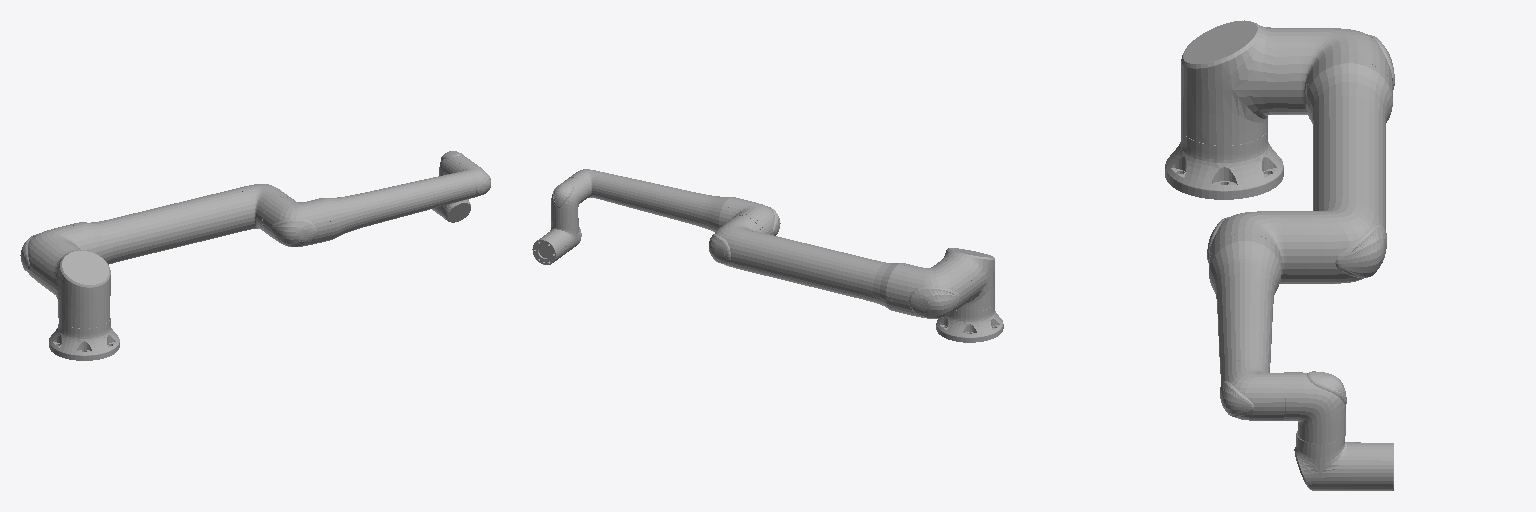
URDF robot description (ur20_robot):
<?xml version="1.0" encoding="utf-8" ?>
<!-- =================================================================================== -->
<!-- |    This document was autogenerated by xacro from [local-path]/catkin_workspace/src/universal_robot/ur_description/urdf/ur20.xacro | -->
<!-- |    EDITING THIS FILE BY HAND IS NOT RECOMMENDED                                 | -->
<!-- =================================================================================== -->
<robot name="ur20_robot">
    <!--
    Base UR robot series xacro macro.

    NOTE: this is NOT a URDF. It cannot directly be loaded by consumers
    expecting a flattened '.urdf' file. See the top-level '.xacro' for that
    (but note: that .xacro must still be processed by the xacro command).

    For use in '.launch' files: use one of the 'load_urX.launch' convenience
    launch files.

    This file models the base kinematic chain of a UR robot, which then gets
    parameterised by various configuration files to convert it into a UR3(e),
    UR5(e), UR10(e) or UR16e.

    NOTE: the default kinematic parameters (ie: link lengths, frame locations,
    offets, etc) do not correspond to any particular robot. They are defaults
    only. There WILL be non-zero offsets between the Forward Kinematics results
    in TF (ie: robot_state_publisher) and the values reported by the Teach
    Pendant.

    For accurate (and robot-specific) transforms, the 'kinematics_parameters_file'
    parameter MUST point to a .yaml file containing the appropriate values for
    the targetted robot.

    If using the UniversalRobots/Universal_Robots_ROS_Driver, follow the steps
    described in the readme of that repository to extract the kinematic
    calibration from the controller and generate the required .yaml file.

    Main author of the migration to yaml configs: [author].

    Contributors to previous versions (in no particular order):

     - [author]
     - [author]
     - [author]
     - [author]
     - [author]
     - [author]
     - [author]
     - [author]
     - [author]
     - [author]
     - [author]
     - [author]
     - [author]
     - [author]
     - [author]
     - [author]
     - [author]
    
    Refactor by WHI for connecting to other link
     - [author]
  -->
    <!--
    NOTE: the macro defined in this file is NOT part of the public API of this
          package. Users CANNOT rely on this file being available, or stored in
          this location. Nor can they rely on the existence of the macro.
  -->
    <transmission name="shoulder_pan_trans">
        <type>transmission_interface/SimpleTransmission</type>
        <joint name="shoulder_pan_joint">
            <hardwareInterface>hardware_interface/PositionJointInterface</hardwareInterface>
        </joint>
        <actuator name="shoulder_pan_motor">
            <mechanicalReduction>1</mechanicalReduction>
            <hardwareInterface>hardware_interface/EffortJointInterface</hardwareInterface>
        </actuator>
    </transmission>
    <transmission name="shoulder_lift_trans">
        <type>transmission_interface/SimpleTransmission</type>
        <joint name="shoulder_lift_joint">
            <hardwareInterface>hardware_interface/PositionJointInterface</hardwareInterface>
        </joint>
        <actuator name="shoulder_lift_motor">
            <mechanicalReduction>1</mechanicalReduction>
            <hardwareInterface>hardware_interface/EffortJointInterface</hardwareInterface>
        </actuator>
    </transmission>
    <transmission name="elbow_trans">
        <type>transmission_interface/SimpleTransmission</type>
        <joint name="elbow_joint">
            <hardwareInterface>hardware_interface/PositionJointInterface</hardwareInterface>
        </joint>
        <actuator name="elbow_motor">
            <mechanicalReduction>1</mechanicalReduction>
            <hardwareInterface>hardware_interface/EffortJointInterface</hardwareInterface>
        </actuator>
    </transmission>
    <transmission name="wrist_1_trans">
        <type>transmission_interface/SimpleTransmission</type>
        <joint name="wrist_1_joint">
            <hardwareInterface>hardware_interface/PositionJointInterface</hardwareInterface>
        </joint>
        <actuator name="wrist_1_motor">
            <mechanicalReduction>1</mechanicalReduction>
            <hardwareInterface>hardware_interface/EffortJointInterface</hardwareInterface>
        </actuator>
    </transmission>
    <transmission name="wrist_2_trans">
        <type>transmission_interface/SimpleTransmission</type>
        <joint name="wrist_2_joint">
            <hardwareInterface>hardware_interface/PositionJointInterface</hardwareInterface>
        </joint>
        <actuator name="wrist_2_motor">
            <mechanicalReduction>1</mechanicalReduction>
            <hardwareInterface>hardware_interface/EffortJointInterface</hardwareInterface>
        </actuator>
    </transmission>
    <transmission name="wrist_3_trans">
        <type>transmission_interface/SimpleTransmission</type>
        <joint name="wrist_3_joint">
            <hardwareInterface>hardware_interface/PositionJointInterface</hardwareInterface>
        </joint>
        <actuator name="wrist_3_motor">
            <mechanicalReduction>1</mechanicalReduction>
            <hardwareInterface>hardware_interface/EffortJointInterface</hardwareInterface>
        </actuator>
    </transmission>
    <!-- links: main serial chain -->
    <link name="base_link" />
    <link name="base_link_inertia">
        <visual>
            <origin rpy="0 0 3.14159265359" xyz="0 0 0" />
            <geometry>
                <mesh filename="package://ur_description/meshes/ur20/visual/base.dae" />
            </geometry>
            <material name="LightGrey">
                <color rgba="0.7 0.7 0.7 1.0" />
            </material>
        </visual>
        <collision>
            <origin rpy="0 0 3.14159265359" xyz="0 0 0" />
            <geometry>
                <mesh filename="package://ur_description/meshes/ur20/collision/base.stl" />
            </geometry>
        </collision>
        <inertial>
            <mass value="4.0" />
            <origin rpy="0 0 0" xyz="0 0 0" />
            <inertia ixx="0.0061063308908" ixy="0.0" ixz="0.0" iyy="0.0061063308908" iyz="0.0" izz="0.01125" />
        </inertial>
    </link>
    <link name="shoulder_link">
        <visual>
            <origin rpy="0 0 3.14159265359" xyz="0 0 0" />
            <geometry>
                <mesh filename="package://ur_description/meshes/ur20/visual/shoulder.dae" />
            </geometry>
            <material name="LightGrey">
                <color rgba="0.7 0.7 0.7 1.0" />
            </material>
        </visual>
        <collision>
            <origin rpy="0 0 3.14159265359" xyz="0 0 0" />
            <geometry>
                <mesh filename="package://ur_description/meshes/ur20/collision/shoulder.stl" />
            </geometry>
        </collision>
        <inertial>
            <mass value="16.343" />
            <origin rpy="0 0 0" xyz="0 0 0" />
            <inertia ixx="0.0661332849633" ixy="0.0" ixz="0.0" iyy="0.0661332849633" iyz="0.0" izz="0.0459646875" />
        </inertial>
    </link>
    <link name="upper_arm_link">
        <visual>
            <origin rpy="1.57079632679 0 -1.57079632679" xyz="0 0 0.26" />
            <geometry>
                <mesh filename="package://ur_description/meshes/ur20/visual/upperarm.dae" />
            </geometry>
            <material name="LightGrey">
                <color rgba="0.7 0.7 0.7 1.0" />
            </material>
        </visual>
        <collision>
            <origin rpy="1.57079632679 0 -1.57079632679" xyz="0 0 0.26" />
            <geometry>
                <mesh filename="package://ur_description/meshes/ur20/collision/upperarm.stl" />
            </geometry>
        </collision>
        <inertial>
            <mass value="29.632" />
            <origin rpy="0 1.57079632679 0" xyz="-0.426 0.0 0.275" />
            <inertia ixx="1.83416821033" ixy="0.0" ixz="0.0" iyy="1.83416821033" iyz="0.0" izz="0.08334" />
        </inertial>
    </link>
    <link name="forearm_link">
        <visual>
            <origin rpy="1.57079632679 0 -1.57079632679" xyz="0 0 0.043" />
            <geometry>
                <mesh filename="package://ur_description/meshes/ur20/visual/forearm.dae" />
            </geometry>
            <material name="LightGrey">
                <color rgba="0.7 0.7 0.7 1.0" />
            </material>
        </visual>
        <collision>
            <origin rpy="1.57079632679 0 -1.57079632679" xyz="0 0 0.043" />
            <geometry>
                <mesh filename="package://ur_description/meshes/ur20/collision/forearm.stl" />
            </geometry>
        </collision>
        <inertial>
            <mass value="7.879" />
            <origin rpy="0 1.57079632679 0" xyz="-0.36435 0.0 0.043" />
            <inertia ixx="0.359727872651" ixy="0.0" ixz="0.0" iyy="0.359727872651" iyz="0.0" izz="0.0221596875" />
        </inertial>
    </link>
    <link name="wrist_1_link">
        <visual>
            <!-- TODO: Move this to a parameter -->
            <origin rpy="1.57079632679 0 0" xyz="0 0 -0.135" />
            <geometry>
                <mesh filename="package://ur_description/meshes/ur20/visual/wrist1.dae" />
            </geometry>
            <material name="LightGrey">
                <color rgba="0.7 0.7 0.7 1.0" />
            </material>
        </visual>
        <collision>
            <origin rpy="1.57079632679 0 0" xyz="0 0 -0.135" />
            <geometry>
                <mesh filename="package://ur_description/meshes/ur20/collision/wrist1.stl" />
            </geometry>
        </collision>
        <inertial>
            <mass value="3.054" />
            <origin rpy="0 0 0" xyz="0 0 0" />
            <inertia ixx="0.0079594843162" ixy="0.0" ixz="0.0" iyy="0.0079594843162" iyz="0.0" izz="0.008589375" />
        </inertial>
    </link>
    <link name="wrist_2_link">
        <visual>
            <origin rpy="0 0 0" xyz="0 0 -0.12" />
            <geometry>
                <mesh filename="package://ur_description/meshes/ur20/visual/wrist2.dae" />
            </geometry>
            <material name="LightGrey">
                <color rgba="0.7 0.7 0.7 1.0" />
            </material>
        </visual>
        <collision>
            <origin rpy="0 0 0" xyz="0 0 -0.12" />
            <geometry>
                <mesh filename="package://ur_description/meshes/ur20/collision/wrist2.stl" />
            </geometry>
        </collision>
        <inertial>
            <mass value="3.126" />
            <origin rpy="0 0 0" xyz="0 0 0" />
            <inertia ixx="0.00814713424114" ixy="0.0" ixz="0.0" iyy="0.00814713424114" iyz="0.0" izz="0.008791875" />
        </inertial>
    </link>
    <link name="wrist_3_link">
        <visual>
            <origin rpy="1.57079632679 0 0" xyz="0 0 -0.1168" />
            <geometry>
                <mesh filename="package://ur_description/meshes/ur20/visual/wrist3.dae" />
            </geometry>
            <material name="LightGrey">
                <color rgba="0.7 0.7 0.7 1.0" />
            </material>
        </visual>
        <collision>
            <origin rpy="1.57079632679 0 0" xyz="0 0 -0.1168" />
            <geometry>
                <mesh filename="package://ur_description/meshes/ur20/collision/wrist3.stl" />
            </geometry>
        </collision>
        <inertial>
            <mass value="0.846" />
            <origin rpy="0 0 0" xyz="0.0 0.0 -0.025" />
            <inertia ixx="0.000604537258185" ixy="0.0" ixz="0.0" iyy="0.000604537258185" iyz="0.0" izz="0.000856575" />
        </inertial>
    </link>
    <!-- joints: main serial chain -->
    <joint name="base_link-base_link_inertia" type="fixed">
        <parent link="base_link" />
        <child link="base_link_inertia" />
        <!-- 'base_link' is REP-103 aligned (so X+ forward), while the internal
           frames of the robot/controller have X+ pointing backwards.
           Use the joint between 'base_link' and 'base_link_inertia' (a dummy
           link/frame) to introduce the necessary rotation over Z (of pi rad).
      -->
        <origin rpy="0 0 3.14159265359" xyz="0 0 0" />
    </joint>
    <joint name="shoulder_pan_joint" type="revolute">
        <parent link="base_link_inertia" />
        <child link="shoulder_link" />
        <origin rpy="0 0 -1.59514652488e-07" xyz="0 0 0.23607449839" />
        <axis xyz="0 0 1" />
        <limit effort="730.0" lower="-6.28318530718" upper="6.28318530718" velocity="2.09439510239" />
        <dynamics damping="0" friction="0" />
    </joint>
    <joint name="shoulder_lift_joint" type="revolute">
        <parent link="shoulder_link" />
        <child link="upper_arm_link" />
        <origin rpy="1.56979231947 0 -3.28715129713e-06" xyz="-2.08034473974e-05 0 0" />
        <axis xyz="0 0 1" />
        <limit effort="730.0" lower="-6.28318530718" upper="6.28318530718" velocity="2.09439510239" />
        <dynamics damping="0" friction="0" />
    </joint>
    <joint name="elbow_joint" type="revolute">
        <parent link="upper_arm_link" />
        <child link="forearm_link" />
        <origin rpy="0.000671542131258 -0.00028053299559 1.70860052519e-06" xyz="-0.860949970697 0 0" />
        <axis xyz="0 0 1" />
        <limit effort="430.0" lower="-3.14159265359" upper="3.14159265359" velocity="2.61799387799" />
        <dynamics damping="0" friction="0" />
    </joint>
    <joint name="wrist_1_joint" type="revolute">
        <parent link="forearm_link" />
        <child link="wrist_1_link" />
        <origin rpy="0.000641872359824 -0.00262633873846 3.87802500407e-06" xyz="-0.72808717433 -0.00012745298797 0.198564353981" />
        <axis xyz="0 0 1" />
        <limit effort="100.0" lower="-6.28318530718" upper="6.28318530718" velocity="3.66519142919" />
        <dynamics damping="0" friction="0" />
    </joint>
    <joint name="wrist_2_joint" type="revolute">
        <parent link="wrist_1_link" />
        <child link="wrist_2_link" />
        <origin rpy="1.57041410988 0 5.82319012479e-07" xyz="2.21894149046e-05 -0.159108612527 6.0814006412e-05" />
        <axis xyz="0 0 1" />
        <limit effort="100.0" lower="-6.28318530718" upper="6.28318530718" velocity="3.66519142919" />
        <dynamics damping="0" friction="0" />
    </joint>
    <joint name="wrist_3_joint" type="revolute">
        <parent link="wrist_2_link" />
        <child link="wrist_3_link" />
        <origin rpy="1.57249048214 3.14159265359 3.14159262415" xyz="7.49356980994e-05 0.154071359793 0.000261021068006" />
        <axis xyz="0 0 1" />
        <limit effort="100.0" lower="-6.28318530718" upper="6.28318530718" velocity="3.66519142919" />
        <dynamics damping="0" friction="0" />
    </joint>
    <!-- ROS-Industrial 'base' frame: base_link to UR 'Base' Coordinates transform -->
    <link name="base" />
    <joint name="base_link-base_fixed_joint" type="fixed">
        <!-- Note the rotation over Z of pi radians: as base_link is REP-103
           aligned (ie: has X+ forward, Y+ left and Z+ up), this is needed
           to correctly align 'base' with the 'Base' coordinate system of
           the UR controller.
      -->
        <origin rpy="0 0 3.14159265359" xyz="0 0 0" />
        <parent link="base_link" />
        <child link="base" />
    </joint>
    <!-- ROS-Industrial 'flange' frame: attachment point for EEF models -->
    <link name="flange" />
    <joint name="wrist_3-flange" type="fixed">
        <parent link="wrist_3_link" />
        <child link="flange" />
        <origin rpy="0 -1.57079632679 -1.57079632679" xyz="0 0 0" />
    </joint>
    <!-- ROS-Industrial 'tool0' frame: all-zeros tool frame -->
    <link name="tool0" />
    <joint name="flange-tool0" type="fixed">
        <!-- default toolframe: X+ left, Y+ up, Z+ front -->
        <origin rpy="1.57079632679 0 1.57079632679" xyz="0 0 0" />
        <parent link="flange" />
        <child link="tool0" />
    </joint>
    <gazebo>
        <plugin name="gazebo_ros_control">
            <robotNamespace>/</robotNamespace>
        </plugin>
    </gazebo>
</robot>

--- What the picture shows (computed from the rendered views, not written in the file) ---
The picture shows the robot from 3 angles, left to right: view 1: azimuth 30°, elevation 25°; view 2: azimuth 150°, elevation 25°; view 3: azimuth 270°, elevation 25°; orthographic projection.
Robot: ur20_robot — 11 links, 10 joints (6 revolute, 4 fixed); root link base_link; default pose: every joint at zero.
Links seen in each view (by area): view 1: upper_arm_link, forearm_link, shoulder_link, base_link_inertia, wrist_2_link; view 2: upper_arm_link, forearm_link, shoulder_link, base_link_inertia, wrist_1_link, wrist_3_link, wrist_2_link; view 3: upper_arm_link, forearm_link, shoulder_link, base_link_inertia, wrist_1_link, wrist_2_link, wrist_3_link.
Link boxes in pixels (left/top/right/bottom): upper_arm_link: left=20, top=184, right=293, bottom=288; forearm_link: left=260, top=160, right=490, bottom=246; shoulder_link: left=42, top=246, right=110, bottom=328; base_link_inertia: left=49, top=318, right=119, bottom=360; wrist_2_link: left=432, top=199, right=470, bottom=222; upper_arm_link: left=709, top=215, right=972, bottom=318; forearm_link: left=569, top=169, right=780, bottom=235; shoulder_link: left=941, top=248, right=994, bottom=311; base_link_inertia: left=936, top=302, right=1003, bottom=342; wrist_1_link: left=551, top=178, right=586, bottom=224; wrist_3_link: left=532, top=233, right=565, bottom=264; wrist_2_link: left=547, top=218, right=581, bottom=254; upper_arm_link: left=1287, top=28, right=1394, bottom=283; forearm_link: left=1207, top=211, right=1295, bottom=420; shoulder_link: left=1181, top=20, right=1288, bottom=145; base_link_inertia: left=1165, top=130, right=1283, bottom=199; wrist_1_link: left=1284, top=371, right=1346, bottom=443; wrist_2_link: left=1294, top=431, right=1360, bottom=490; wrist_3_link: left=1360, top=443, right=1393, bottom=490.
Bounding box of the posed robot: 1.76 × 0.4745 × 0.3327 m (x, y, z).
Meshes: 7 distinct files referenced, 7 mesh visuals loaded (7 Collada DAE).